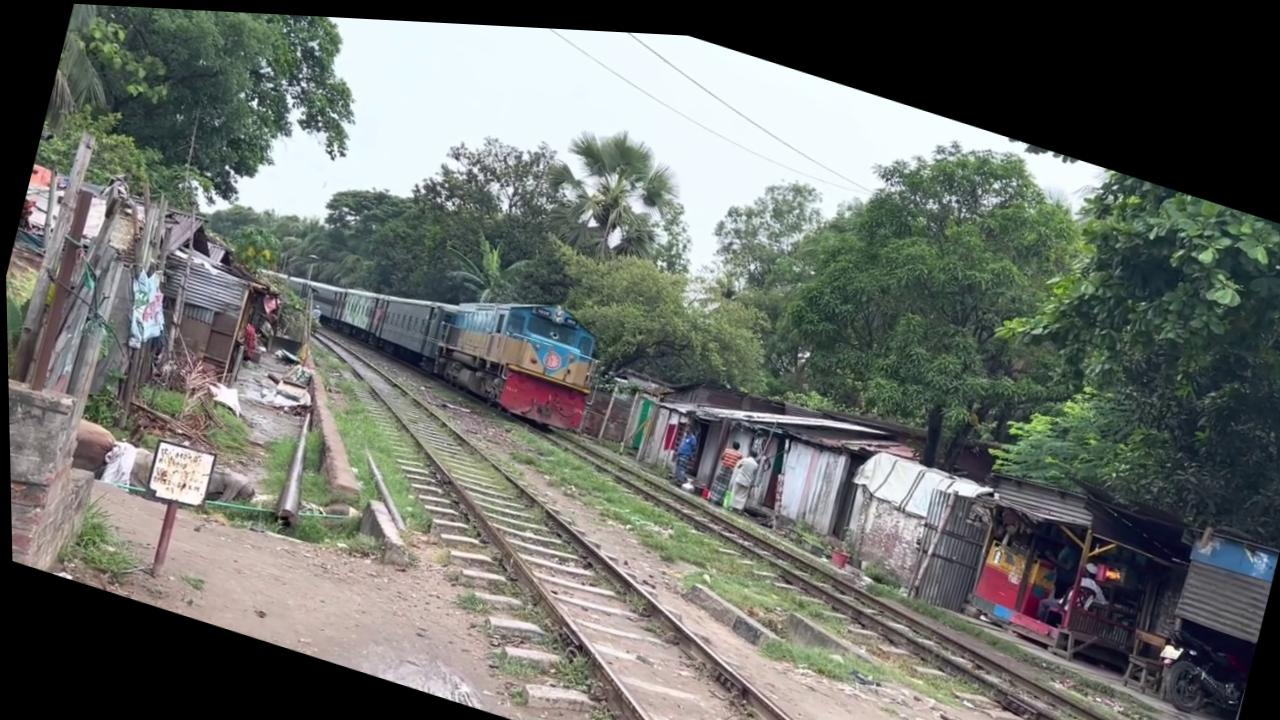Curb: (1145, 611, 1252, 715)
Fence: (720, 434, 763, 509), (705, 428, 745, 501), (663, 414, 700, 481)
Garbage: (2, 123, 101, 389), (266, 402, 324, 528), (144, 496, 178, 578)
Motorcycle: (328, 409, 948, 720)
Pothole: (141, 434, 215, 510)
Potted-plant: (238, 208, 612, 435)
Railroad-crossing: (743, 81, 1125, 494), (30, 1, 405, 257), (526, 101, 695, 275)
